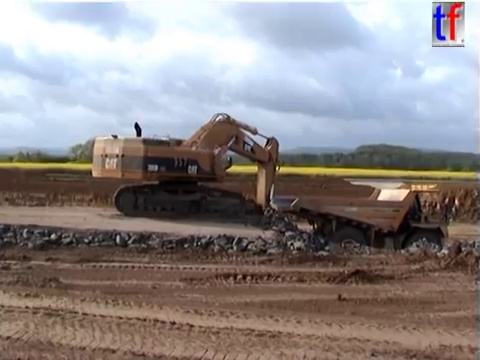excavator: (89, 110, 292, 243)
truck: (267, 180, 457, 266)
